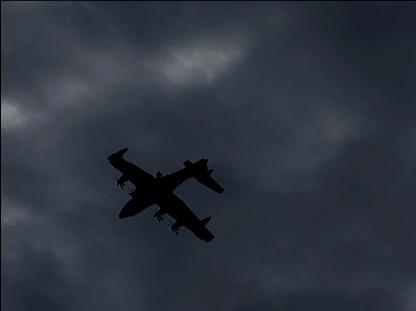Tu95: (106, 147, 222, 242)
